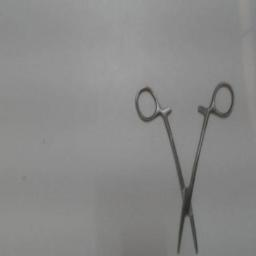Mayo Needle Holder: (134, 76, 238, 256)
